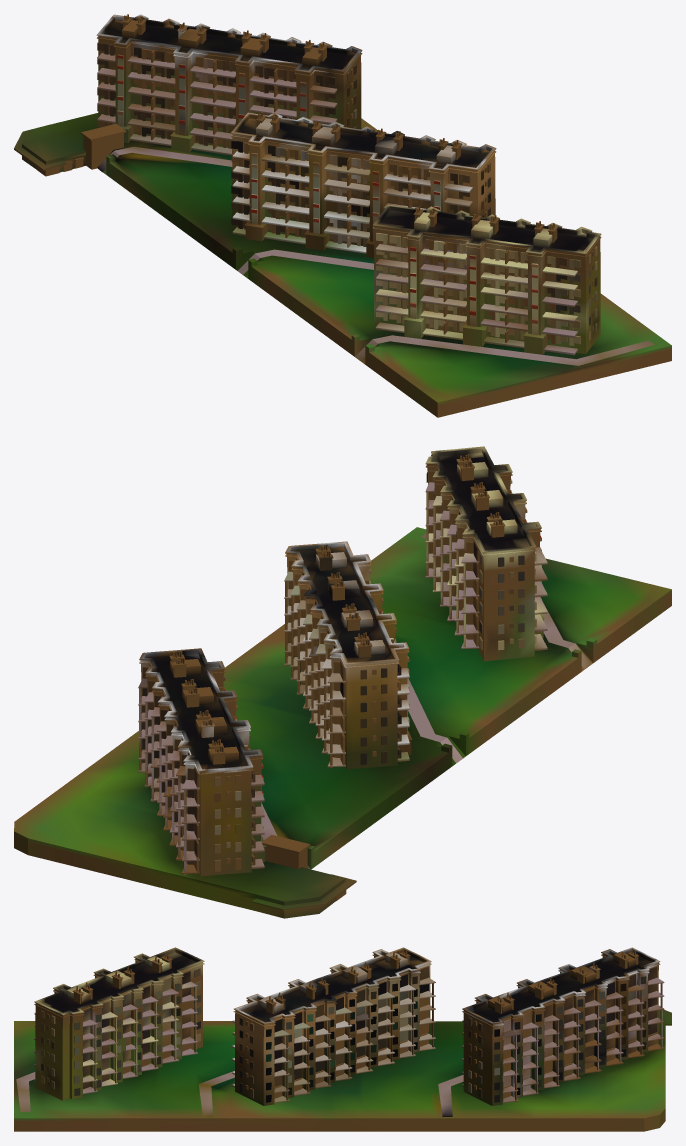
Rendered from GeversDeynootweg_Appartments_100_190.fbx.
3 renders of one model, top to bottom at view 1: azimuth 30°, elevation 25°; view 2: azimuth 150°, elevation 25°; view 3: azimuth 270°, elevation 25°, orthographic. The views are drawn at different scales.
Visible parts, largest first — view 1: GeverDeynootweg_Appartments_100_190_Mesh, Flat03_Mesh, Flat01_Mesh, Flat02_Mesh; view 2: GeverDeynootweg_Appartments_100_190_Mesh, Flat01_Mesh, Flat02_Mesh, Flat03_Mesh; view 3: GeverDeynootweg_Appartments_100_190_Mesh, Flat01_Mesh, Flat02_Mesh, Flat03_Mesh.
Boxes of the visible parts, box(x1,y1,x2,y2) form: GeverDeynootweg_Appartments_100_190_Mesh: box(14, 113, 671, 417); Flat03_Mesh: box(372, 204, 601, 354); Flat01_Mesh: box(96, 14, 362, 155); Flat02_Mesh: box(231, 112, 496, 258); GeverDeynootweg_Appartments_100_190_Mesh: box(14, 527, 671, 918); Flat01_Mesh: box(138, 648, 266, 876); Flat02_Mesh: box(284, 541, 412, 769); Flat03_Mesh: box(425, 446, 547, 661); GeverDeynootweg_Appartments_100_190_Mesh: box(14, 1009, 671, 1131); Flat01_Mesh: box(462, 947, 664, 1105); Flat02_Mesh: box(232, 947, 435, 1105); Flat03_Mesh: box(34, 947, 204, 1100).
Size of the model in its own units: 7195 by 3131 by 16779.
